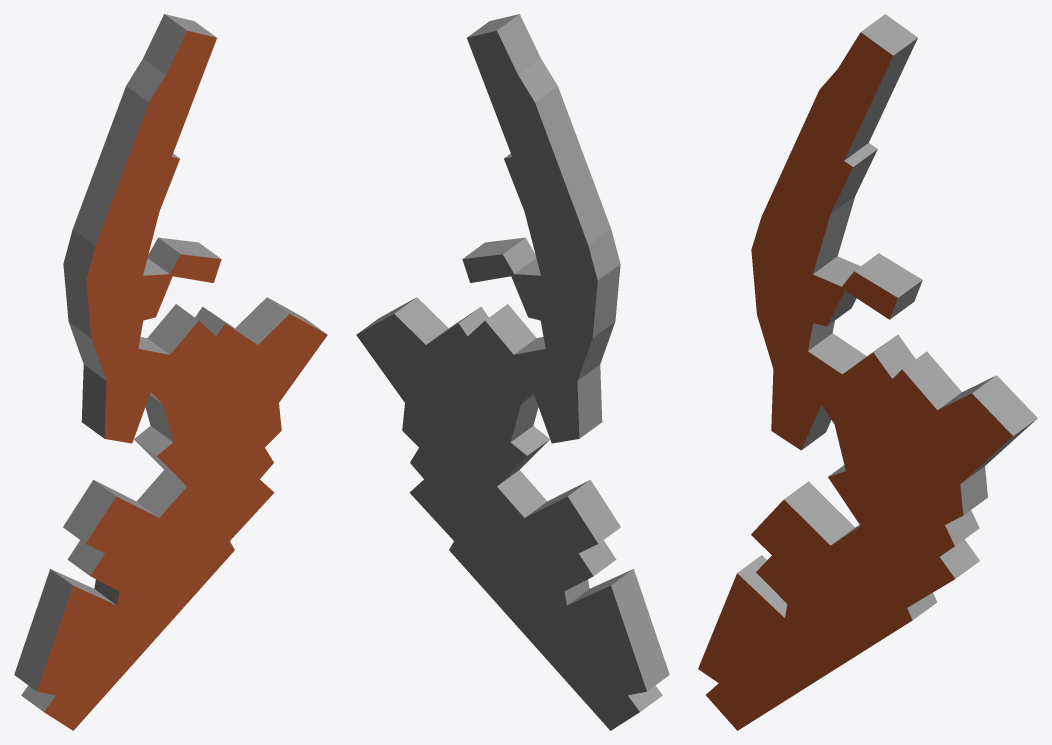
The model's file is construction_6744_assumed_A_Casa_h6m.obj.
The picture shows the model from 3 angles, left to right: view 1: azimuth 30°, elevation 25°; view 2: azimuth 150°, elevation 25°; view 3: azimuth 330°, elevation 25°; orthographic projection. The views are drawn at different scales.
Visible parts, largest first — view 1: construction_6744_assumed_A_Casa; view 2: construction_6744_assumed_A_Casa; view 3: construction_6744_assumed_A_Casa.
Part boxes in pixels (bbox=[...]): construction_6744_assumed_A_Casa: bbox=[14, 14, 327, 730]; construction_6744_assumed_A_Casa: bbox=[356, 14, 669, 730]; construction_6744_assumed_A_Casa: bbox=[698, 14, 1037, 730].
Bounding box in the file's own units: 44.13 × 97.51 × 6.
